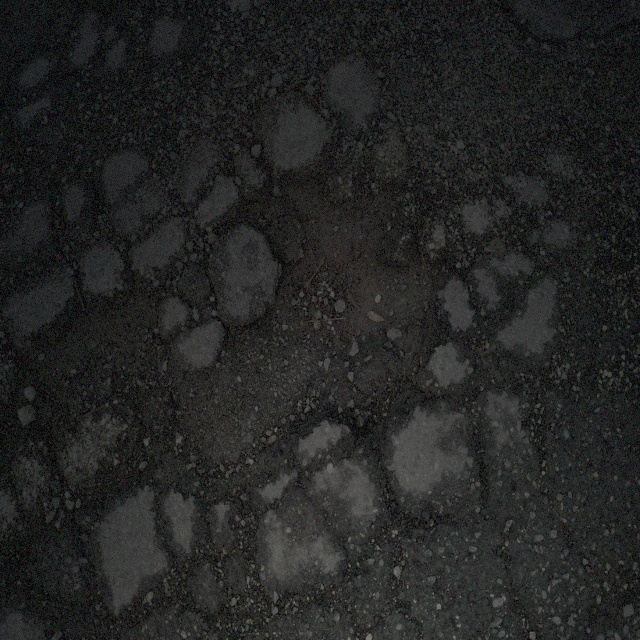pothole: (160, 156, 449, 476)
